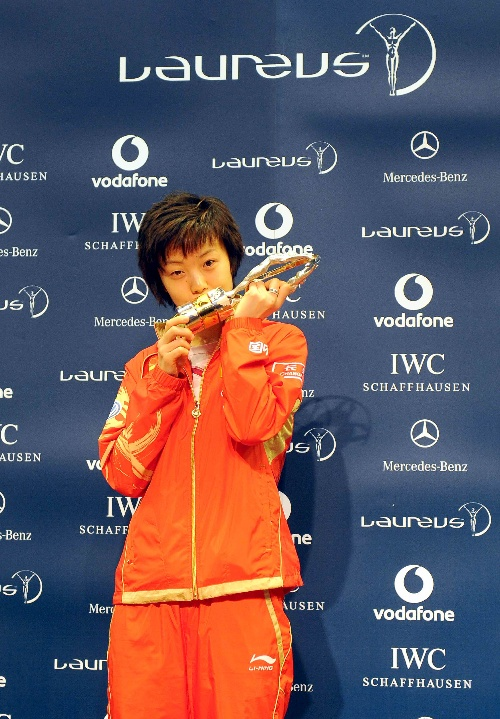face: (164, 225, 232, 318)
